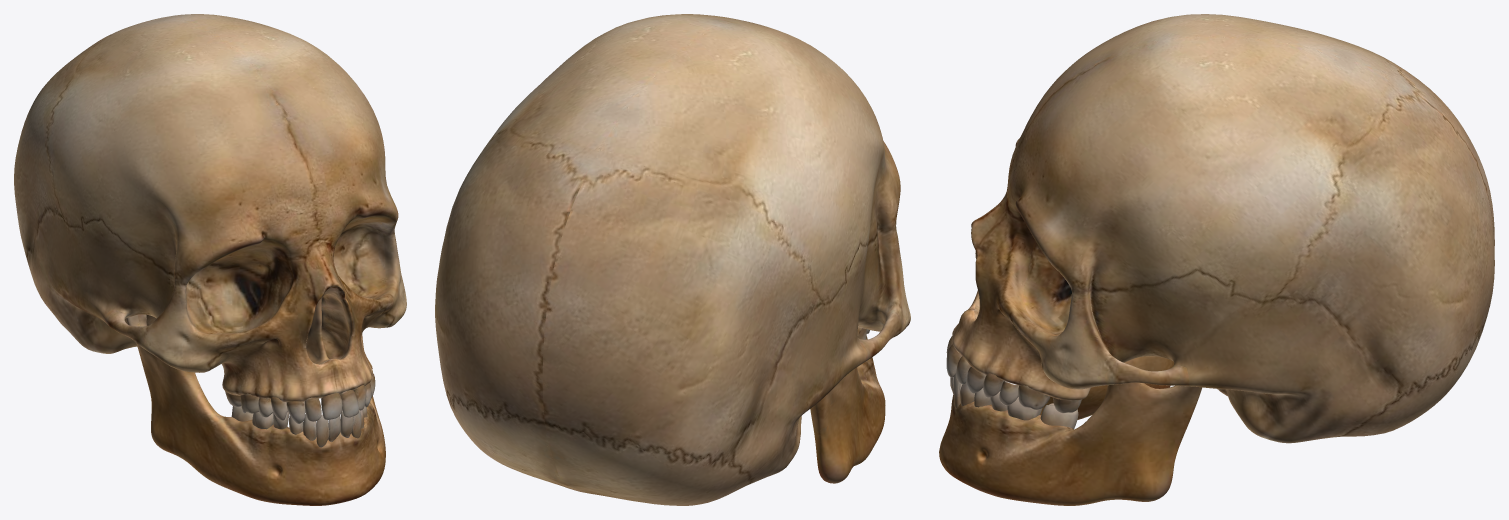
The model's file is crane3.glb.
3 views of the same model, side by side, from view 1: azimuth 30°, elevation 25°; view 2: azimuth 150°, elevation 25°; view 3: azimuth 270°, elevation 25° (orthographic). The views are drawn at different scales.
Visible parts, largest first — view 1: 12140_Skull_v3_L2; view 2: 12140_Skull_v3_L2; view 3: 12140_Skull_v3_L2.
Part boxes in pixels (left/top/right/bottom): 12140_Skull_v3_L2: left=14, top=14, right=406, bottom=505; 12140_Skull_v3_L2: left=435, top=14, right=910, bottom=505; 12140_Skull_v3_L2: left=939, top=14, right=1494, bottom=505.
Bounding box in the file's own units: 0.2637 × 0.3467 × 0.4077.
1 material, 1 textured.
